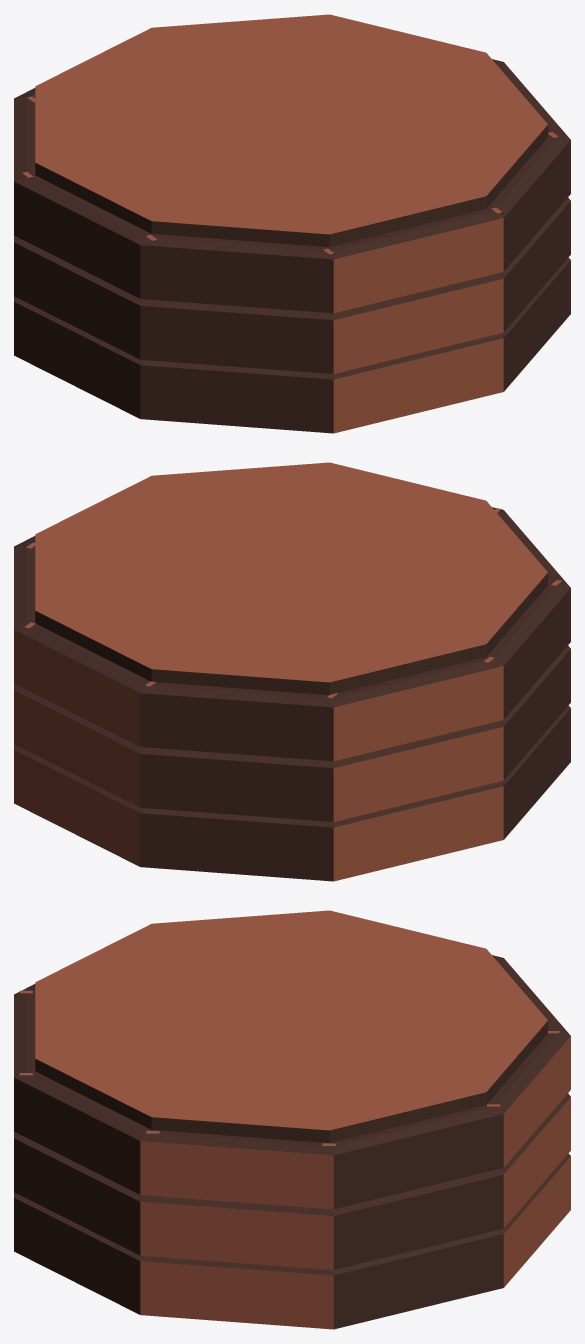
File: reinforced.glb
3 renders of one model, top to bottom at view 1: azimuth 30°, elevation 25°; view 2: azimuth 150°, elevation 25°; view 3: azimuth 270°, elevation 25°, orthographic.
Visible parts, largest first — view 1: Cylinder; view 2: Cylinder; view 3: Cylinder.
Boxes of the visible parts, x1=… form: Cylinder: x1=14, y1=14, x2=570, y2=433; Cylinder: x1=14, y1=462, x2=570, y2=881; Cylinder: x1=14, y1=910, x2=570, y2=1329.
Size of the model in its own units: 1.97 by 0.7388 by 1.94.
